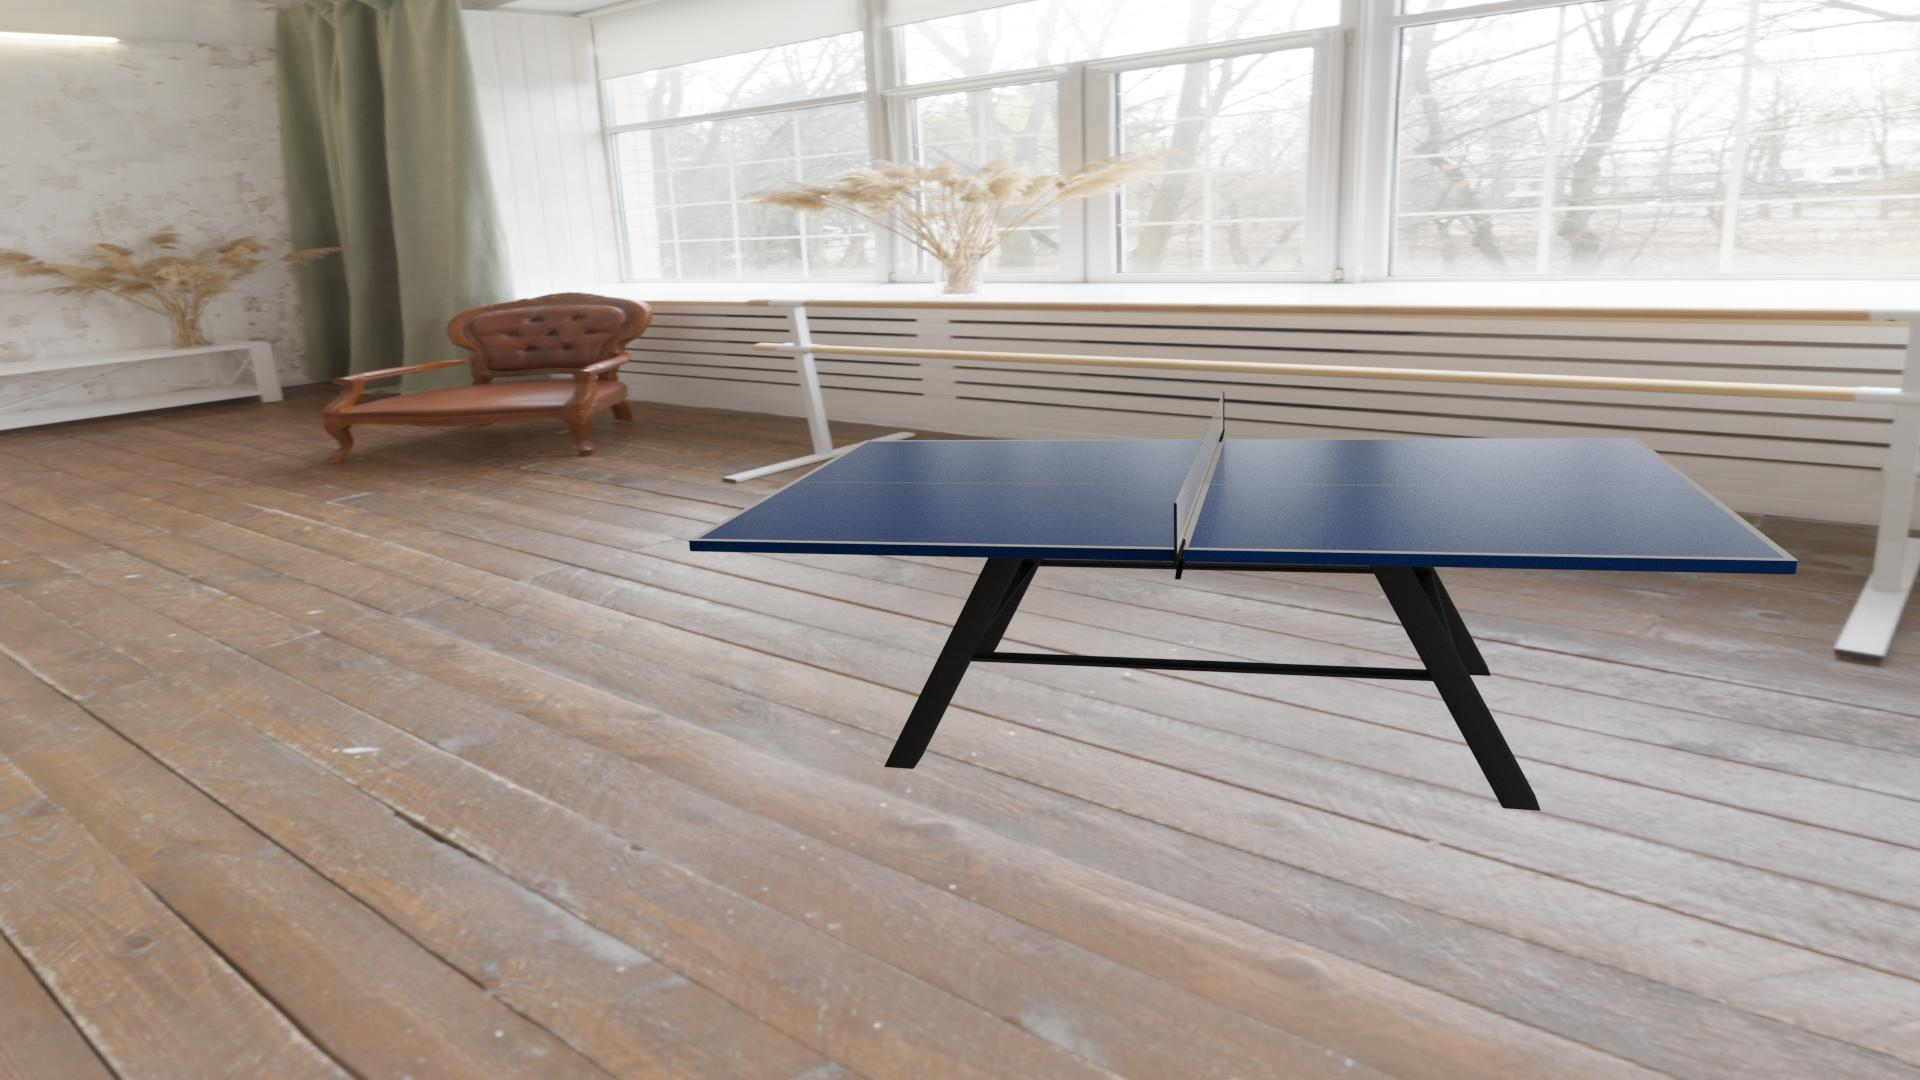table: (698, 438, 1785, 558)
